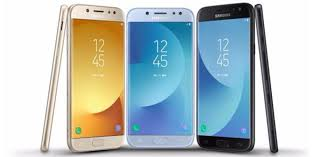samsung: (123, 5, 196, 155), (63, 2, 121, 156), (197, 1, 255, 155)
